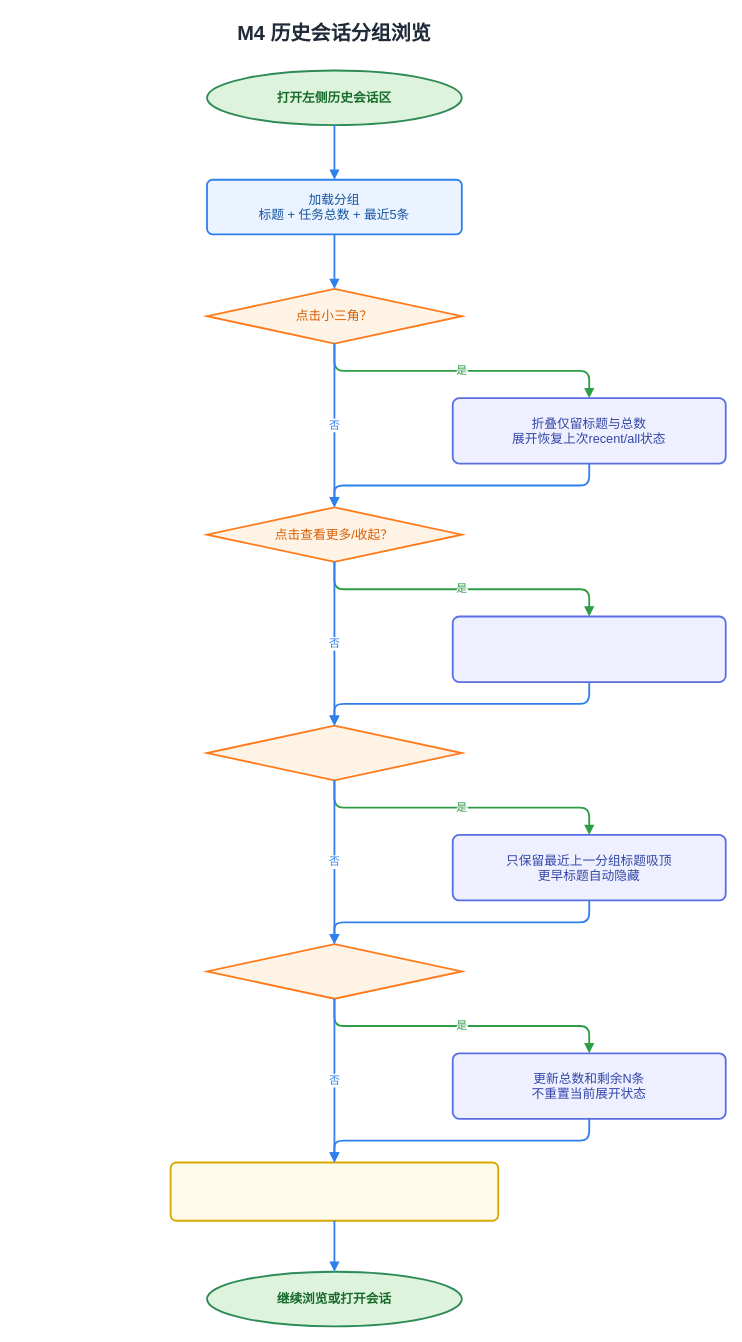
Image size: 742x1342. Some labels were removed from this diagram. The box of each missing label's shape, as (x1, y1, x2, y2) in pixels:
任务数量发生变化？: (206, 943, 462, 999)
保存每组collapsed与recent/all偏好: (169, 1161, 499, 1221)
发生滚动？: (206, 724, 462, 781)
查看更多：展示全部并显示收起 收起：恢复最近5条: (451, 615, 726, 682)
